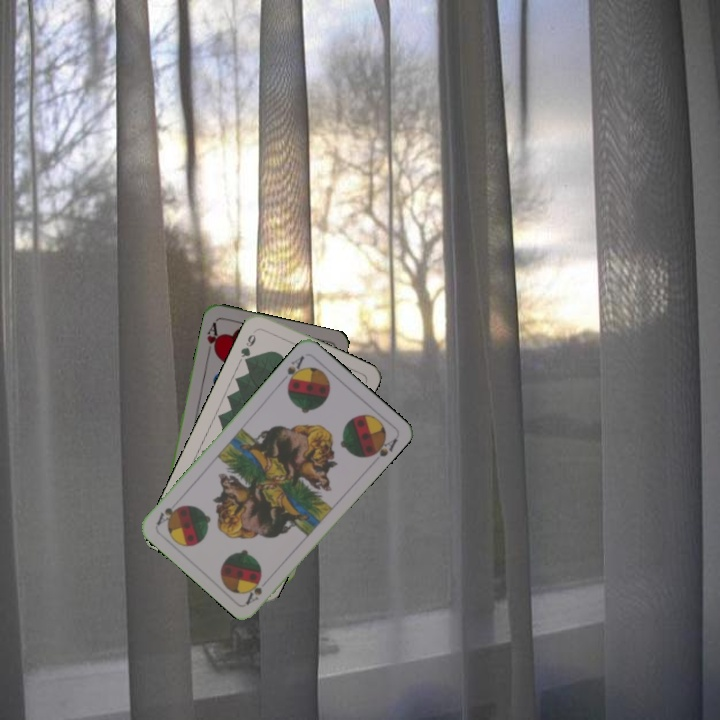G9: (236, 326, 259, 366)
HA: (203, 318, 222, 358)
SA: (277, 351, 307, 389), (242, 574, 265, 607)
